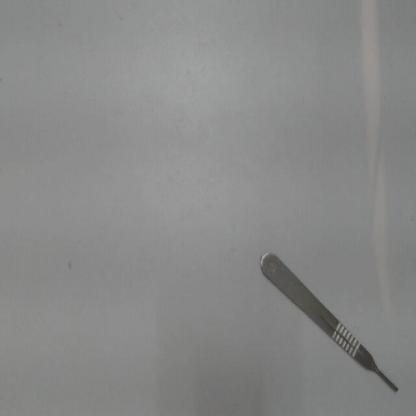No.3 BP Handle: (252, 239, 409, 406)
